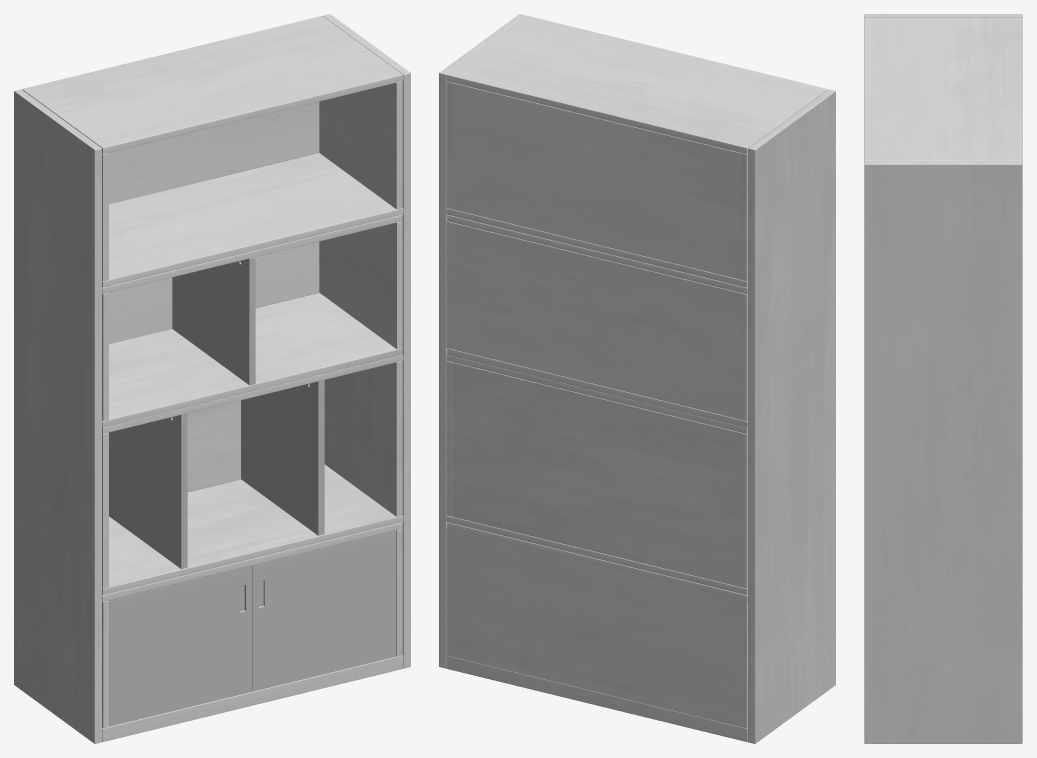
Rendered from Estanteria.fbx.
3 renders of one model, left to right at view 1: azimuth 30°, elevation 25°; view 2: azimuth 150°, elevation 25°; view 3: azimuth 270°, elevation 25°, orthographic. The views are drawn at different scales.
Parts seen in each view (by area): view 1: Estanteria; view 2: Estanteria; view 3: Estanteria.
Boxes of the visible parts, x1=… form: Estanteria: x1=14, y1=14, x2=410, y2=743; Estanteria: x1=439, y1=14, x2=835, y2=743; Estanteria: x1=864, y1=14, x2=1022, y2=743.
Bounding box in the file's own units: 139 × 250 × 61.74.
